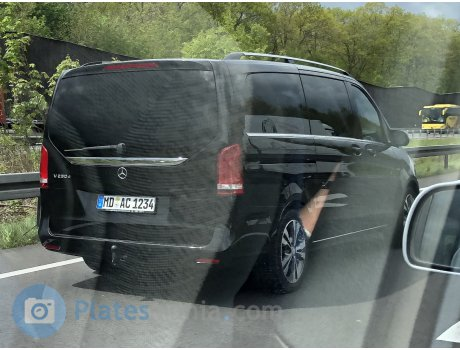License Plates: (104, 191, 158, 208), (113, 194, 158, 211)
